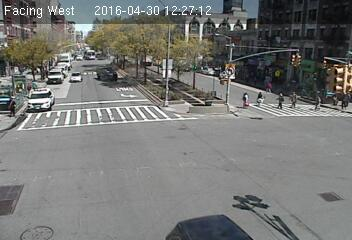neg: (11, 160, 53, 215), (245, 112, 286, 167), (37, 5, 67, 45), (175, 189, 199, 221), (98, 102, 121, 134), (187, 57, 208, 84), (204, 151, 225, 178), (72, 55, 92, 82), (305, 7, 322, 29), (101, 34, 117, 55), (187, 10, 202, 31), (44, 76, 59, 96), (106, 7, 118, 22), (58, 56, 66, 68), (136, 63, 144, 73), (226, 51, 233, 60), (261, 15, 264, 19)
pos: (275, 90, 292, 113), (239, 88, 255, 110), (3, 98, 19, 118), (338, 90, 351, 111), (313, 91, 327, 110), (254, 87, 266, 104), (289, 92, 301, 107), (328, 90, 338, 105), (268, 81, 278, 94)
